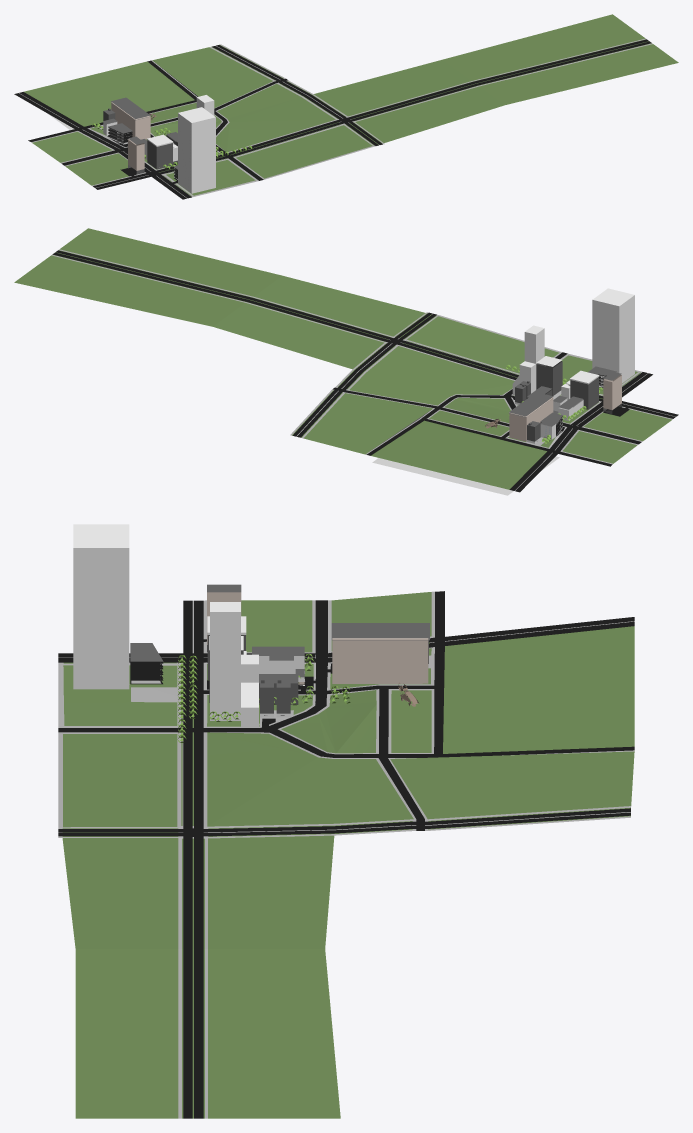
Rendered from city_lod.glb.
The picture shows the model from 3 angles, top to bottom: view 1: azimuth 30°, elevation 25°; view 2: azimuth 150°, elevation 25°; view 3: azimuth 270°, elevation 25°; orthographic projection. The views are drawn at different scales.
Visible parts, largest first — view 1: road, building_9, building_4.001, building_4, building_3.001, building_8.001; view 2: road, building_9, building_4.001, building_7, 平面, building_3, building_4, building_3.001; view 3: road, building_9, building_4.001, building_7, building_8, building_1.001.
Part boxes in pixels (x1=…): road: x1=14, y1=14, x2=678, y2=199; building_9: x1=178, y1=107, x2=215, y2=193; building_4.001: x1=111, y1=97, x2=150, y2=139; building_4: x1=147, y1=134, x2=173, y2=169; building_3.001: x1=128, y1=136, x2=144, y2=174; building_8.001: x1=108, y1=123, x2=132, y2=144; road: x1=14, y1=228, x2=678, y2=492; building_9: x1=592, y1=288, x2=634, y2=383; building_4.001: x1=509, y1=392, x2=553, y2=441; building_7: x1=512, y1=325, x2=544, y2=395; 平面: x1=372, y1=456, x2=559, y2=495; building_3: x1=536, y1=356, x2=562, y2=399; building_4: x1=569, y1=370, x2=599, y2=409; building_3.001: x1=603, y1=371, x2=621, y2=414; road: x1=58, y1=591, x2=634, y2=1118; building_9: x1=73, y1=524, x2=129, y2=689; building_4.001: x1=331, y1=623, x2=429, y2=683; building_7: x1=210, y1=602, x2=258, y2=727; building_8: x1=130, y1=643, x2=163, y2=684; building_1.001: x1=260, y1=679, x2=290, y2=717.
Size of the model in its own units: 1158 by 142 by 517.
